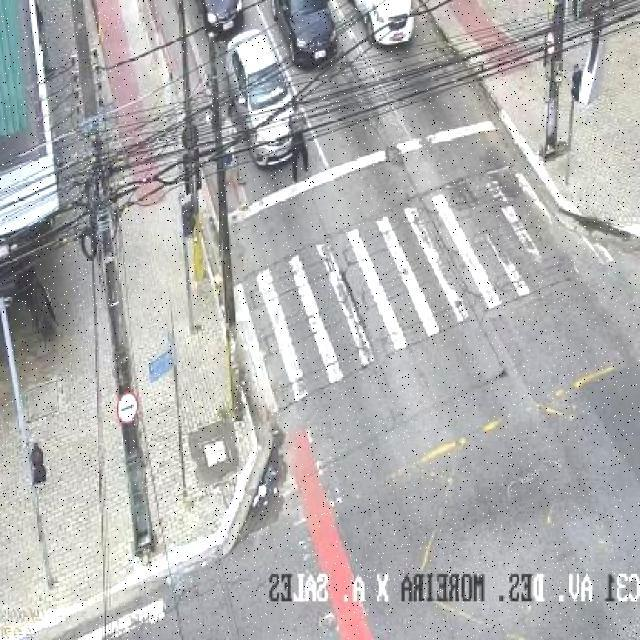Car: (224, 28, 302, 168), (273, 0, 341, 66), (197, 0, 246, 41)
